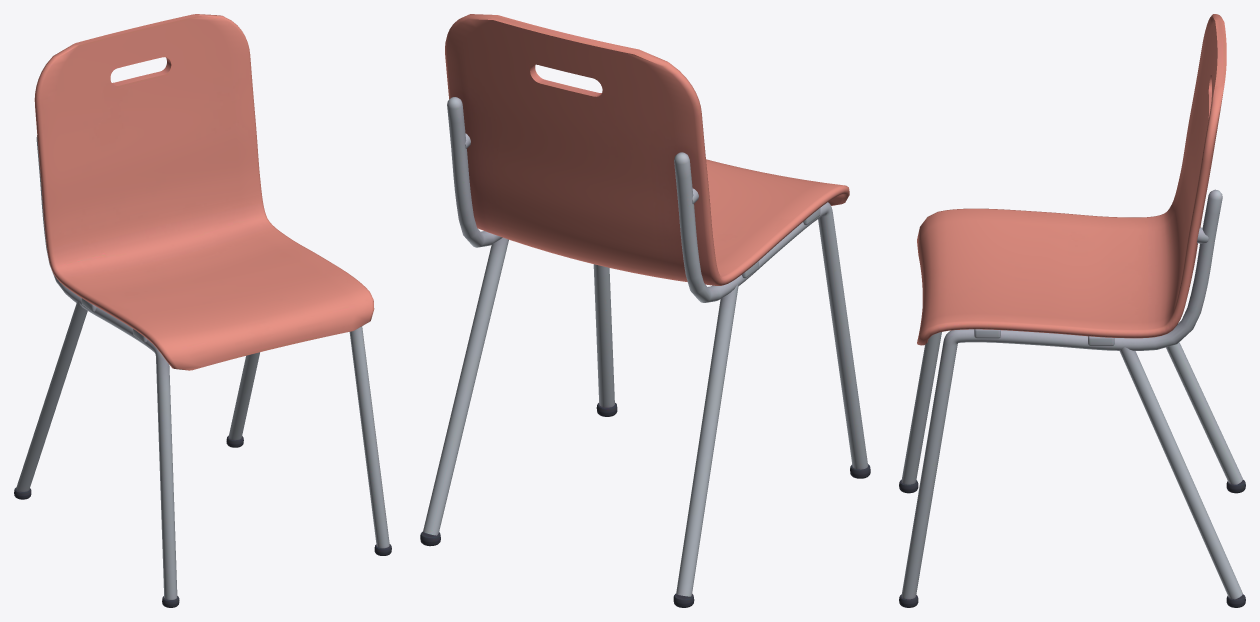
Rendered from stackable-school-chair.glb.
3 views of the same model, side by side, from view 1: azimuth 30°, elevation 25°; view 2: azimuth 150°, elevation 25°; view 3: azimuth 270°, elevation 25° (orthographic). The views are drawn at different scales.
Visible parts, largest first — view 1: stackable-school-chair_body; view 2: stackable-school-chair_body; view 3: stackable-school-chair_body.
Boxes of the visible parts, x1,y1,x2,y2 form: stackable-school-chair_body: [14, 14, 391, 607]; stackable-school-chair_body: [420, 14, 870, 607]; stackable-school-chair_body: [899, 14, 1245, 607].
Size of the model in its own units: 0.4351 by 0.8165 by 0.5191.
Materials: 1 (1 with a texture image).
